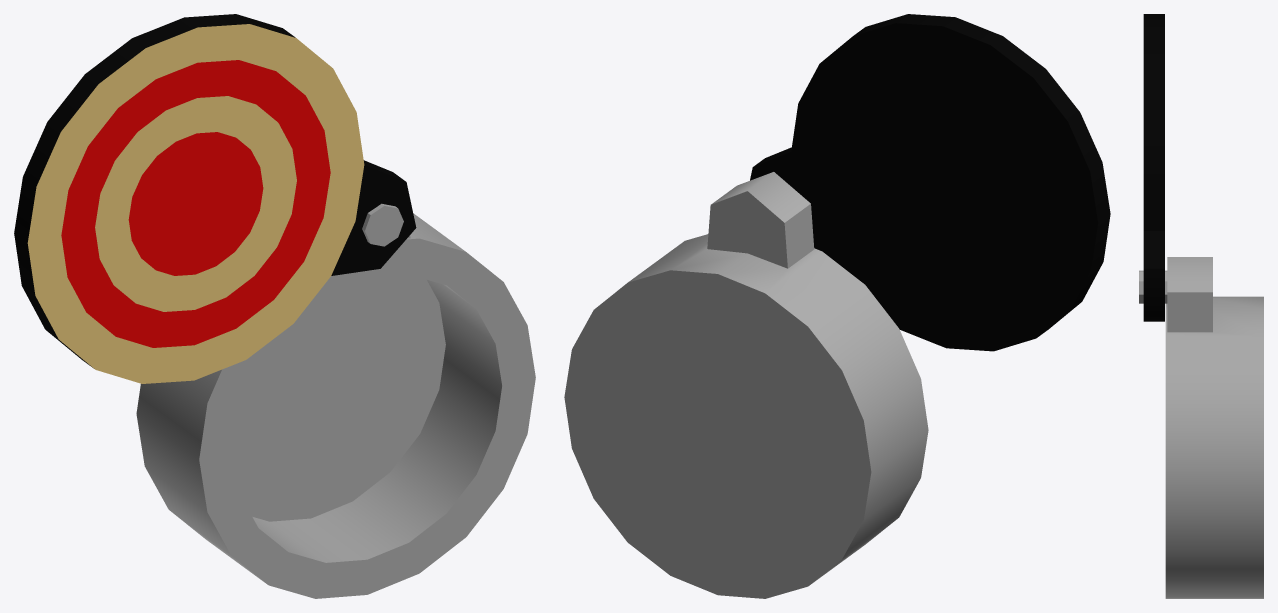
Rendered from target.fbx.
The picture shows the model from 3 angles, left to right: view 1: azimuth 30°, elevation 25°; view 2: azimuth 150°, elevation 25°; view 3: azimuth 270°, elevation 25°; orthographic projection. The views are drawn at different scales.
Parts seen in each view (by area): view 1: target, target_back; view 2: target_back, target; view 3: target_back, target.
Boxes of the visible parts, bbox=[...] form: target: bbox=[14, 14, 416, 383]; target_back: bbox=[136, 203, 535, 598]; target_back: bbox=[564, 172, 928, 598]; target: bbox=[750, 14, 1110, 351]; target_back: bbox=[1139, 257, 1263, 598]; target: bbox=[1143, 14, 1164, 321].
Bounding box in the file's own units: 0.284 × 0.3235 × 0.075.
